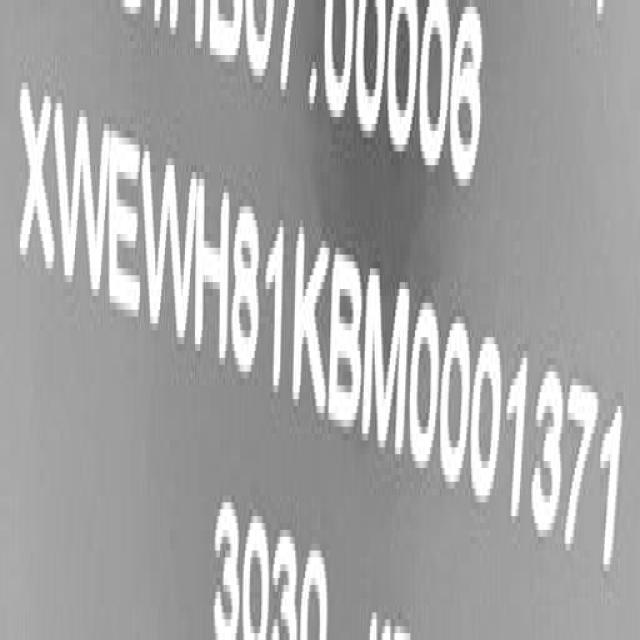0: (408, 286, 441, 479), (470, 321, 502, 510), (439, 304, 470, 495)
1: (599, 389, 628, 565), (264, 211, 286, 409), (508, 346, 530, 532)
3: (529, 356, 569, 547)
7: (565, 372, 600, 568)
8: (230, 188, 264, 376)
B: (331, 242, 365, 443)
E: (108, 111, 144, 336)
H: (195, 161, 231, 379)
K: (292, 213, 330, 420)
M: (366, 257, 412, 465)
W: (55, 86, 110, 316), (142, 139, 198, 362)
X: (14, 73, 56, 290)
